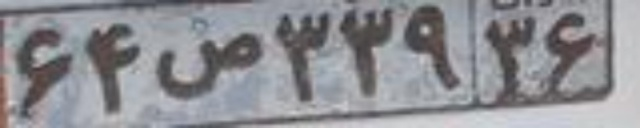3: (336, 8, 394, 97), (275, 11, 330, 102), (478, 16, 534, 85)
4: (86, 22, 139, 113)
6: (16, 27, 74, 116), (544, 12, 596, 86)
9: (400, 4, 466, 88)
saat: (152, 31, 265, 101)
